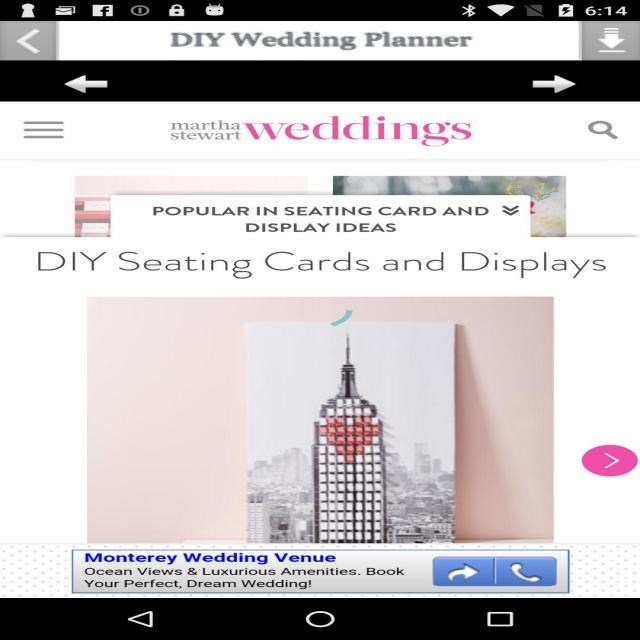button: (0, 544, 640, 600), (559, 428, 640, 470), (53, 68, 138, 103), (578, 118, 640, 157), (0, 25, 75, 57), (8, 115, 84, 144), (524, 70, 594, 101), (568, 36, 640, 58), (496, 198, 526, 235)
image: (90, 297, 560, 540)
text: (16, 250, 619, 289), (145, 207, 501, 238), (142, 120, 523, 146), (144, 31, 490, 57)
